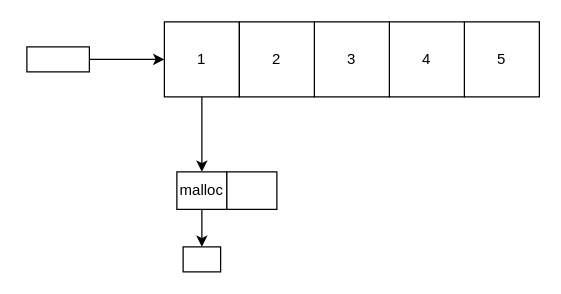
This 561x294 diagram has some shape labels left out. Here are the shapes that lost their labels. From the top down, the centre of each, then its label:
At point (57, 59): "students（malloc）".
At point (251, 190): "func".
At point (201, 259): "data".
